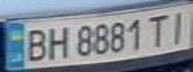1: (124, 15, 148, 52)
8: (72, 21, 96, 57), (90, 20, 112, 56), (109, 18, 130, 54)
B: (21, 26, 51, 63)
H: (42, 24, 72, 61)
I: (163, 7, 193, 45)
T: (142, 11, 172, 47)
